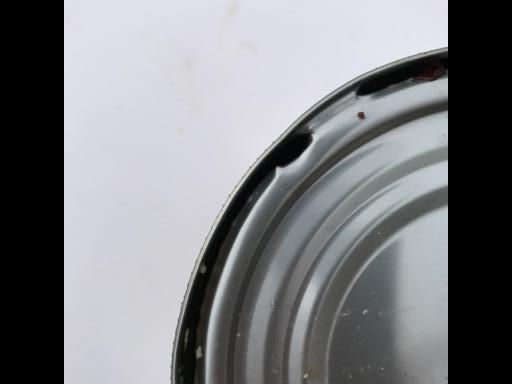metal: (169, 47, 445, 384)
